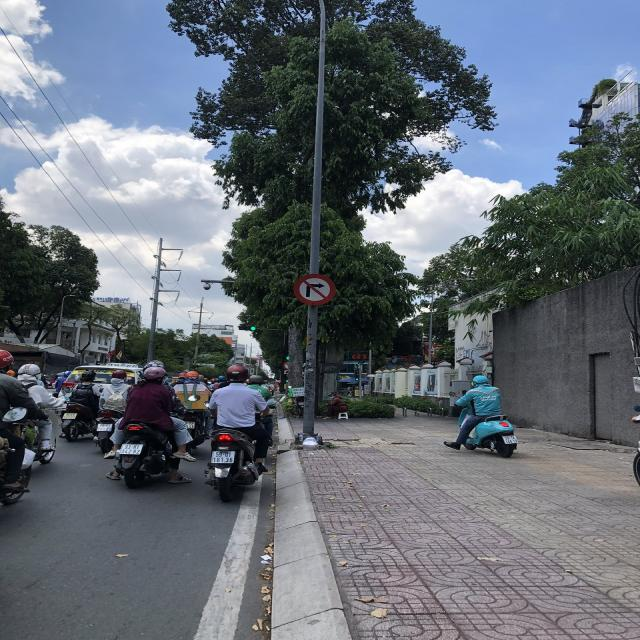Bien bao cam re phai: (290, 271, 340, 307)
